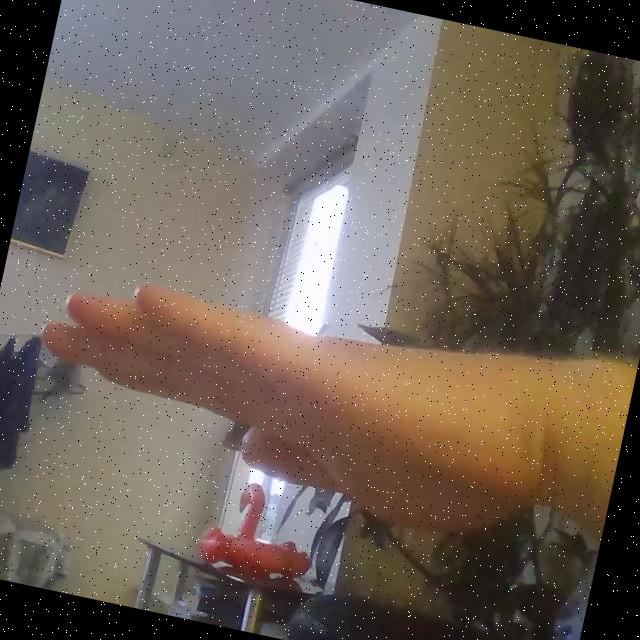papper: (14, 256, 562, 560)
